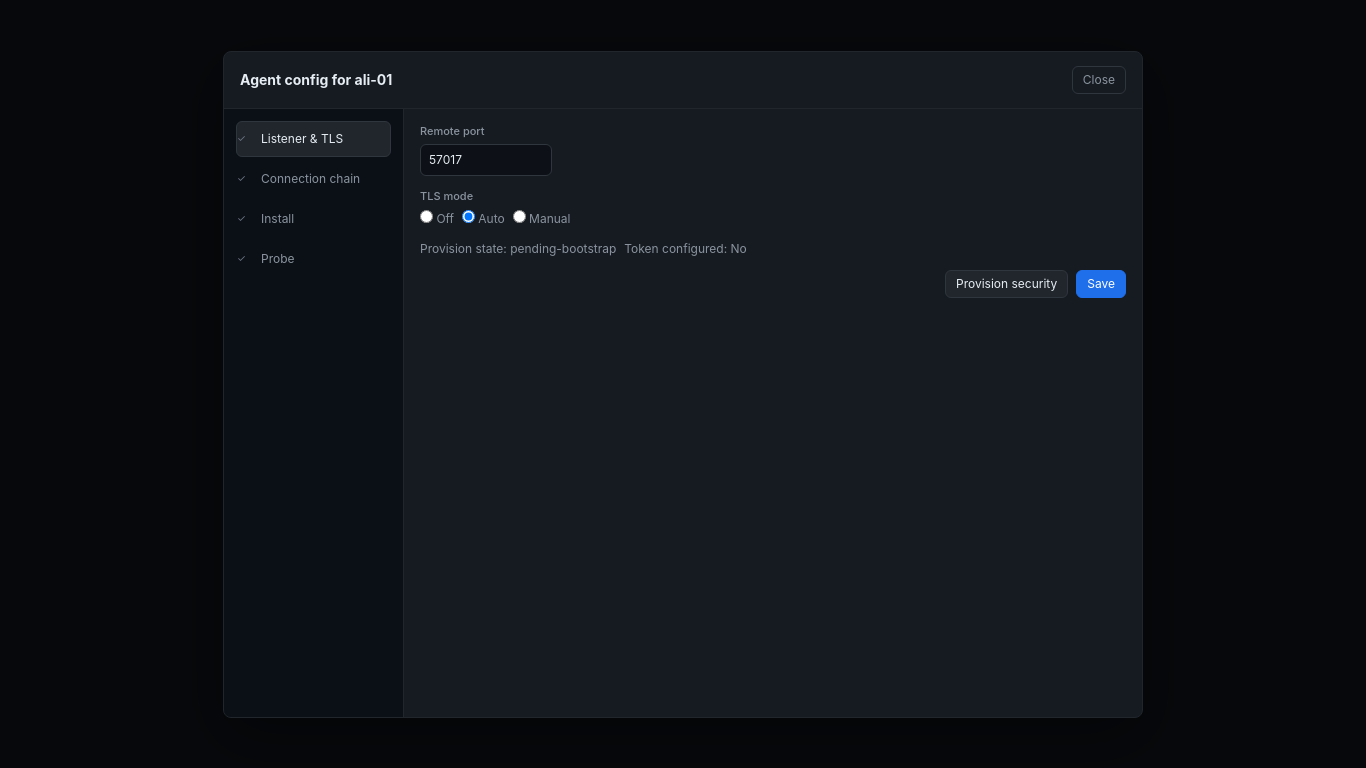
Scenario: AgentConfigPanel › hides manual certificate fields until manual TLS advanced is opened
Click the radio button with test id "agent-tls-mode-manual": (519, 216) [513,210,526,222]
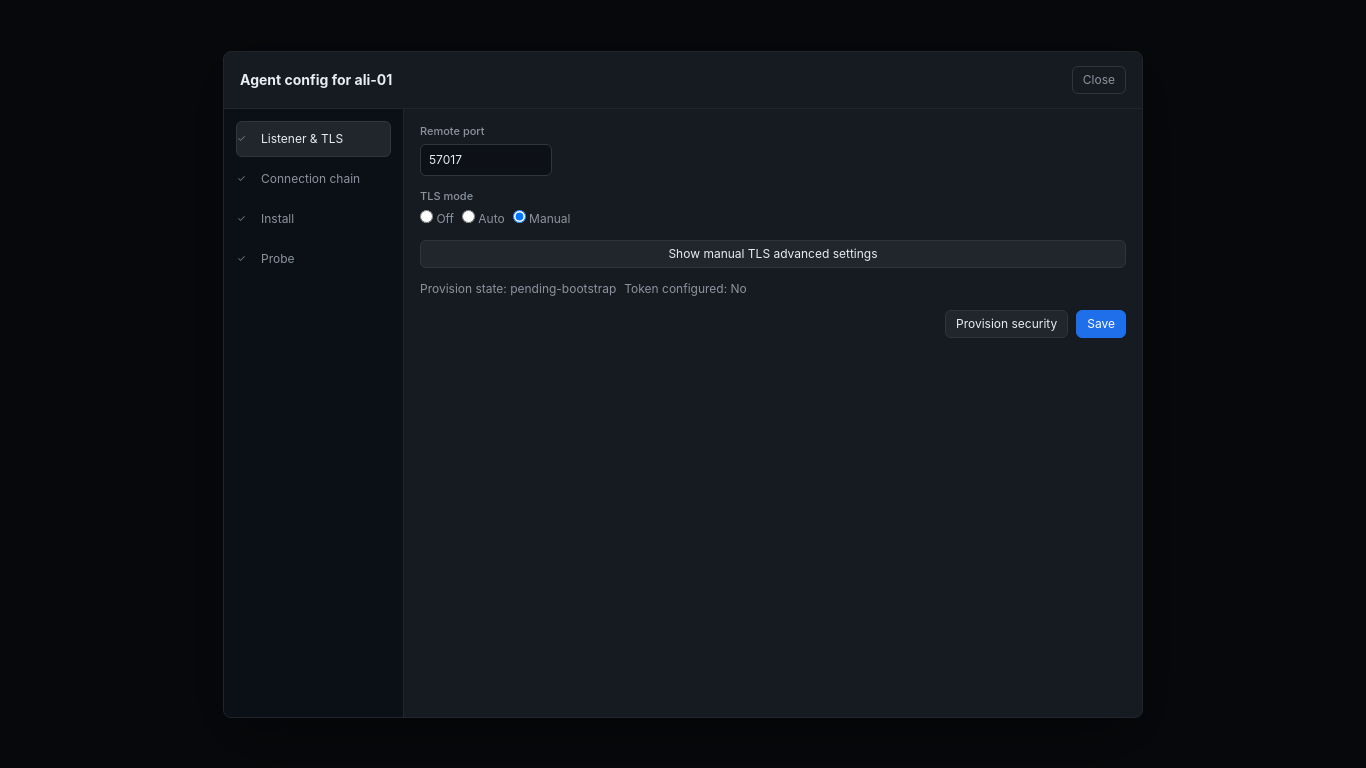
Click the button with test id "agent-manual-advanced-toggle": (773, 254) [420,240,1126,268]
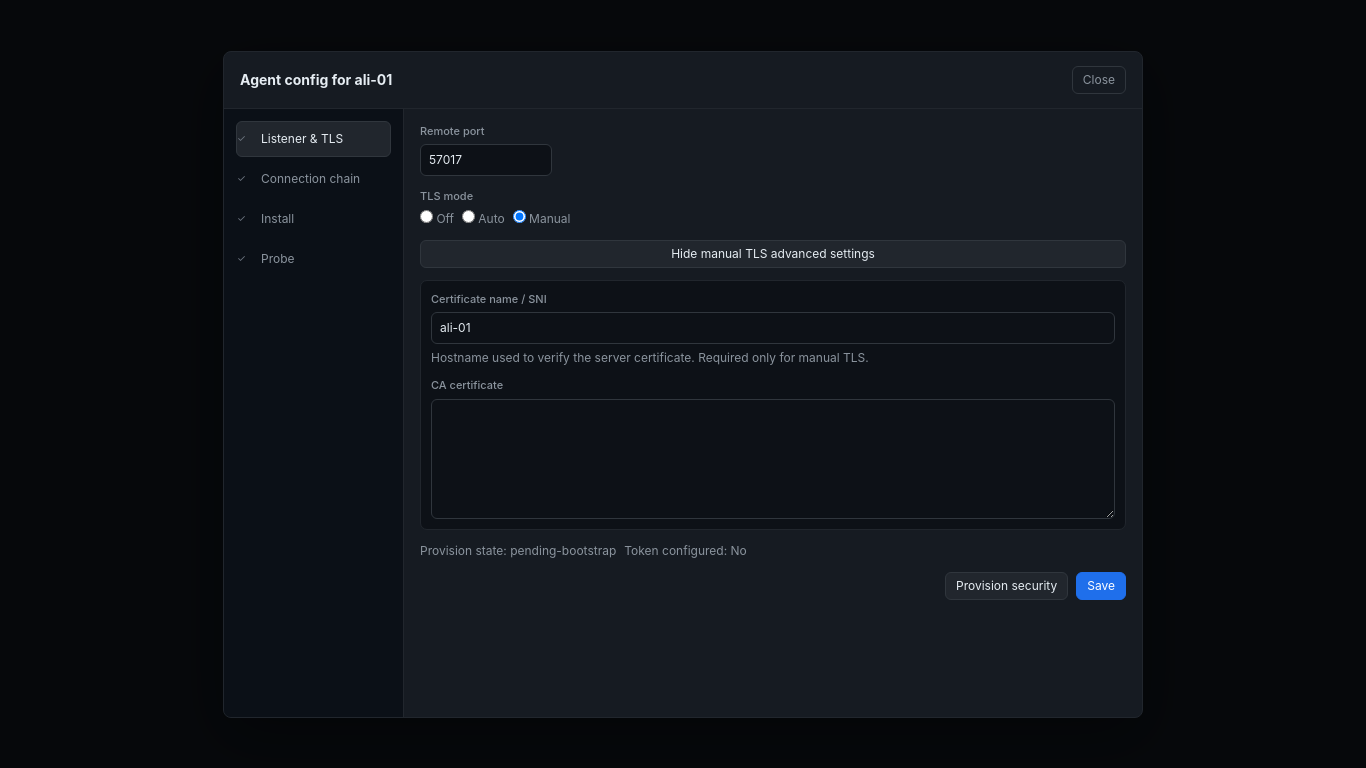
Now the field with test id "agent-server-name" is shown, box [431,312,1115,344]
